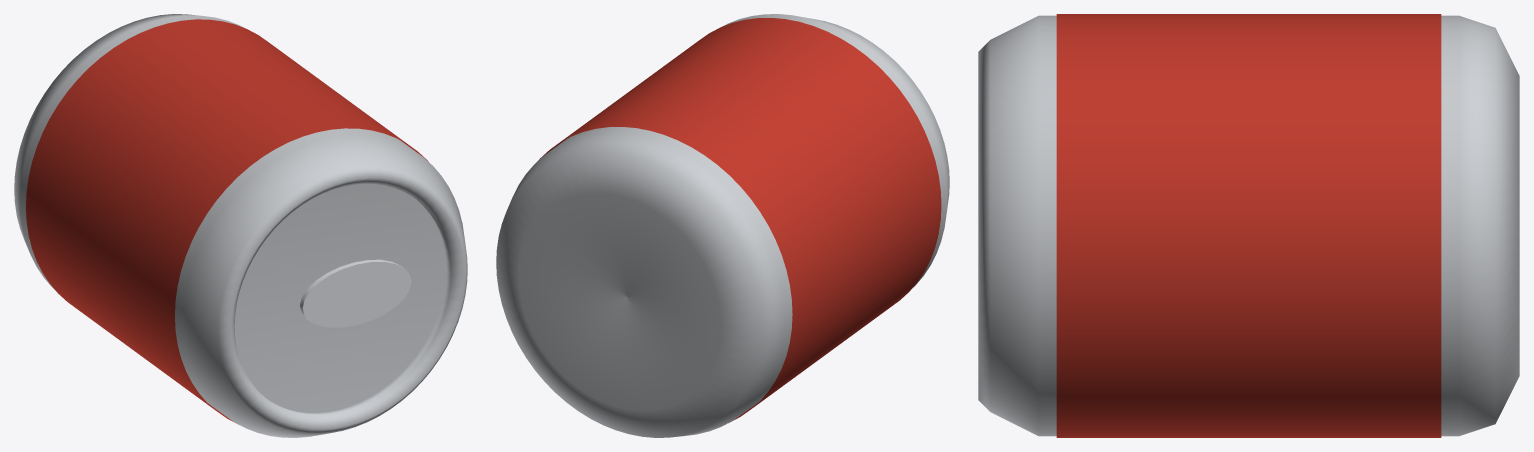
The model's file is can.obj.
3 renders of one model, left to right at view 1: azimuth 30°, elevation 25°; view 2: azimuth 150°, elevation 25°; view 3: azimuth 270°, elevation 25°, orthographic. The views are drawn at different scales.
Visible parts, largest first — view 1: can_0_0, can_1_650, can_2_780; view 2: can_0_0, can_1_650; view 3: can_1_650, can_0_0.
Boxes of the visible parts, x1=… form: can_0_0: x1=14, y1=14, x2=467, y2=437; can_1_650: x1=26, y1=19, x2=428, y2=422; can_2_780: x1=300, y1=259, x2=411, y2=327; can_0_0: x1=496, y1=14, x2=949, y2=437; can_1_650: x1=538, y1=18, x2=941, y2=422; can_1_650: x1=1056, y1=14, x2=1441, y2=437; can_0_0: x1=978, y1=15, x2=1519, y2=436.
Bounding box in the file's own units: 0.0706 × 0.0706 × 0.09.
